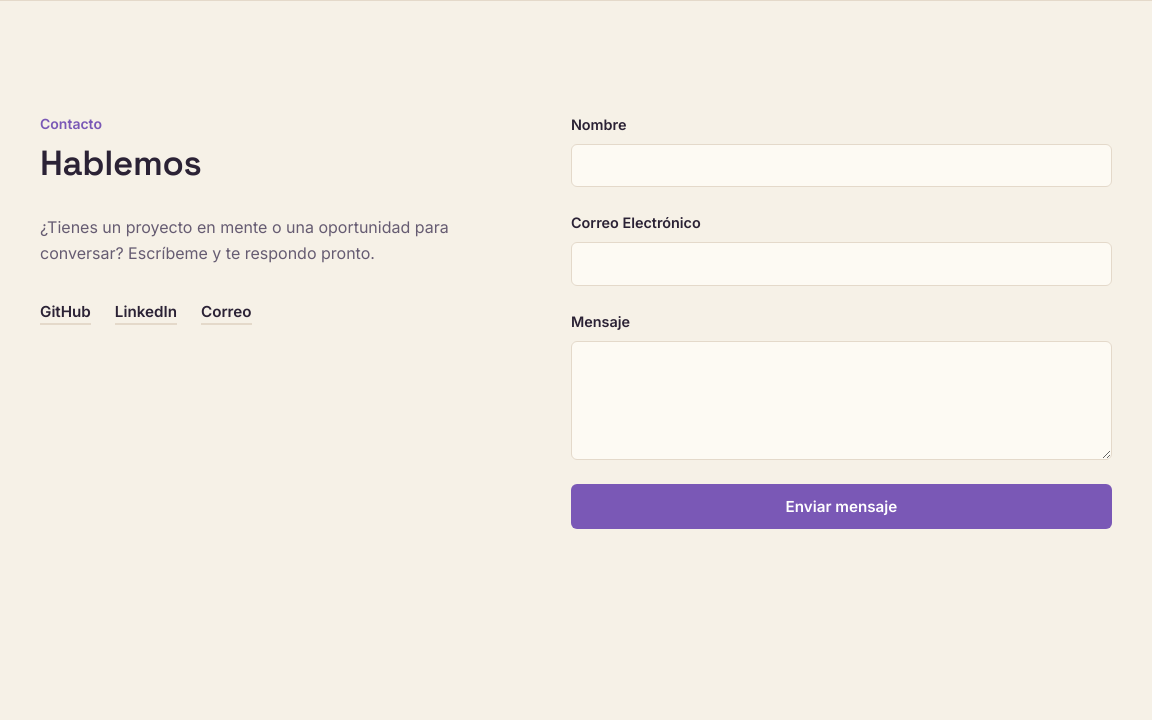
it: Contact form › sends the message directly and clears the form
This screenshot has width=1152, height=720.
Type "Juana" into the field labelled "Nombre" at (841, 166), box x1=571 y1=144 x2=1112 y2=187
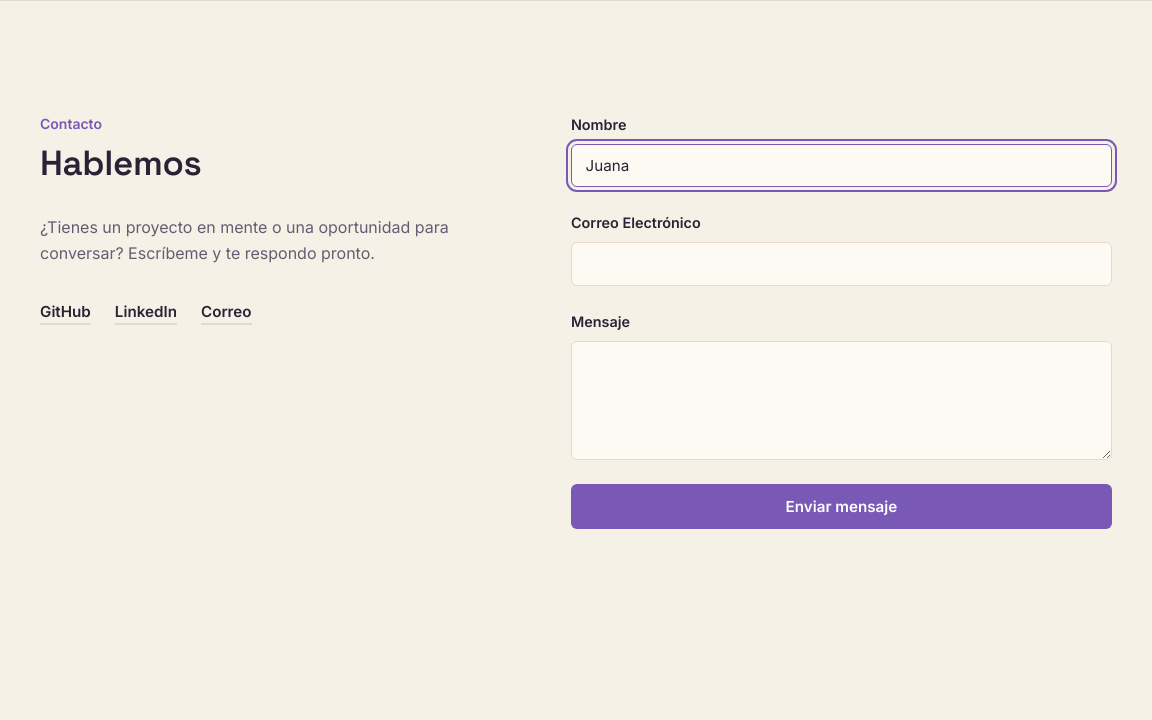
Type "juana@example.com" into the field labelled "Correo Electrónico" at (841, 264), box x1=571 y1=242 x2=1112 y2=286
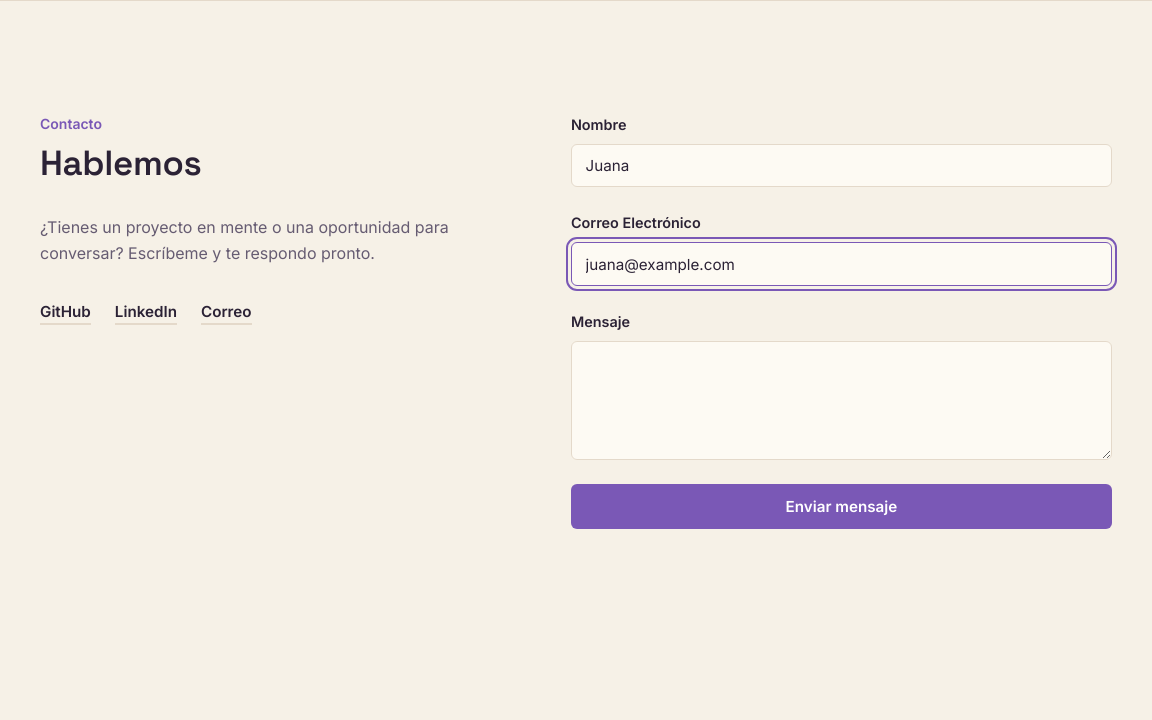
Type "Hola, quiero conversar." into the text box labelled "Mensaje" at (841, 401), box x1=571 y1=341 x2=1112 y2=460
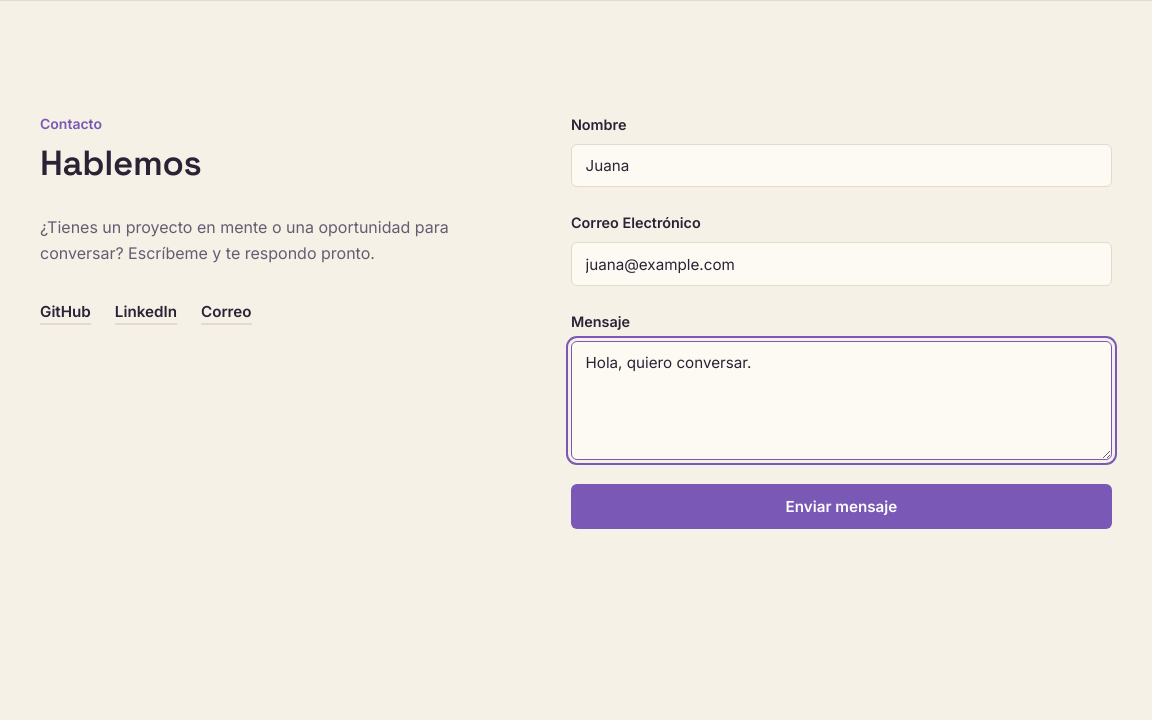
Click the button "Enviar mensaje" at (841, 507), box x1=571 y1=484 x2=1112 y2=529
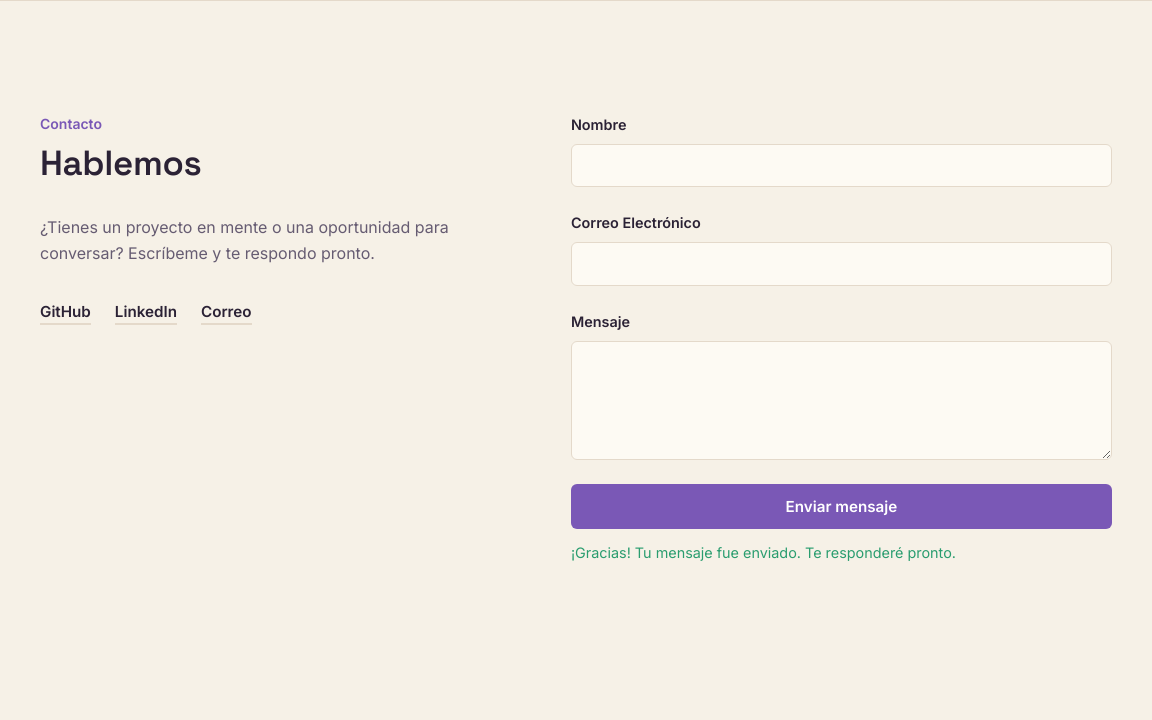
Result: the text "¡Gracias! Tu mensaje fue enviado. Te responderé pronto." is shown at x1=571 y1=544 x2=956 y2=561
Result: the field labelled "Nombre" is empty at x1=571 y1=144 x2=1112 y2=187
